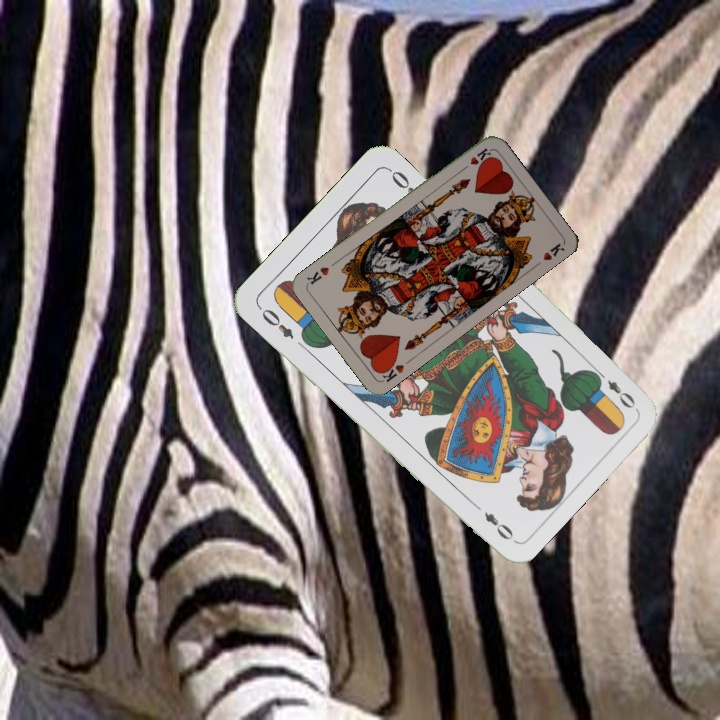EO: (591, 365, 639, 411), (258, 304, 297, 342)
HK: (457, 144, 494, 174), (375, 356, 407, 385)
